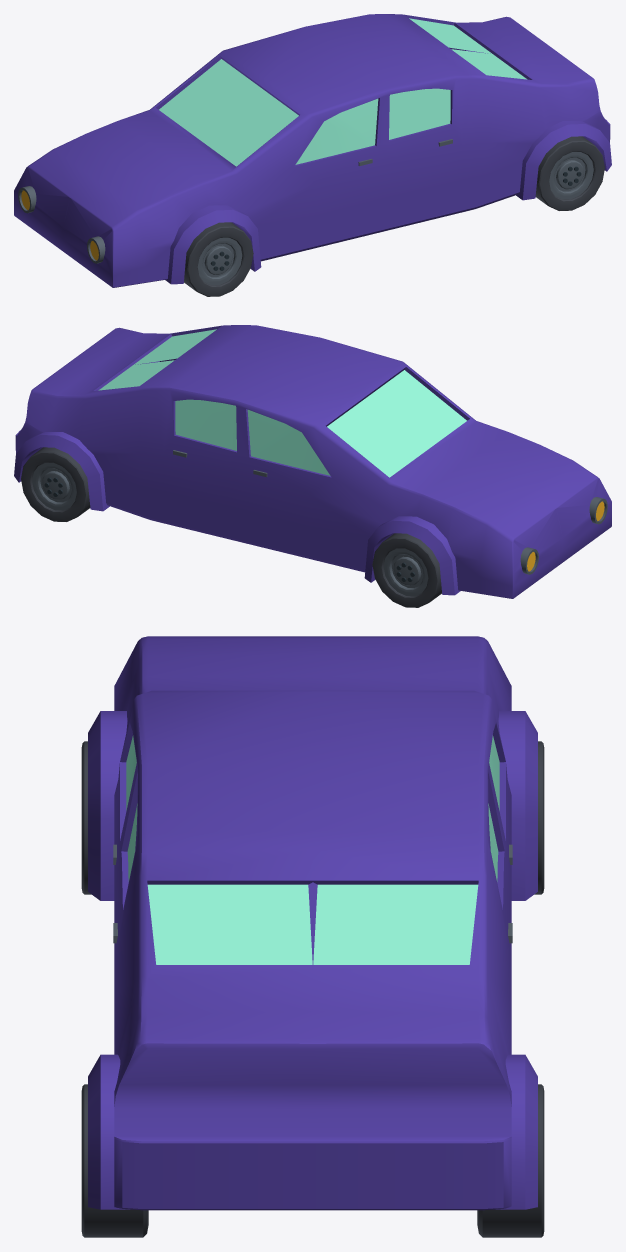
Rendered from Car_Blue.fbx.
The picture shows the model from 3 angles, top to bottom: view 1: azimuth 30°, elevation 25°; view 2: azimuth 150°, elevation 25°; view 3: azimuth 270°, elevation 25°; orthographic projection. The views are drawn at different scales.
Visible parts, largest first — view 1: Car.002, Wheels.002; view 2: Car.002, Wheels.002; view 3: Car.002, Wheels.002.
Part boxes in pixels (bbox=[...]): Car.002: bbox=[14, 14, 611, 287]; Wheels.002: bbox=[184, 136, 604, 296]; Car.002: bbox=[14, 325, 611, 598]; Wheels.002: bbox=[21, 447, 441, 607]; Car.002: bbox=[88, 636, 537, 1210]; Wheels.002: bbox=[81, 741, 544, 1237].
Size of the model in its own units: 963 by 280 by 382.
